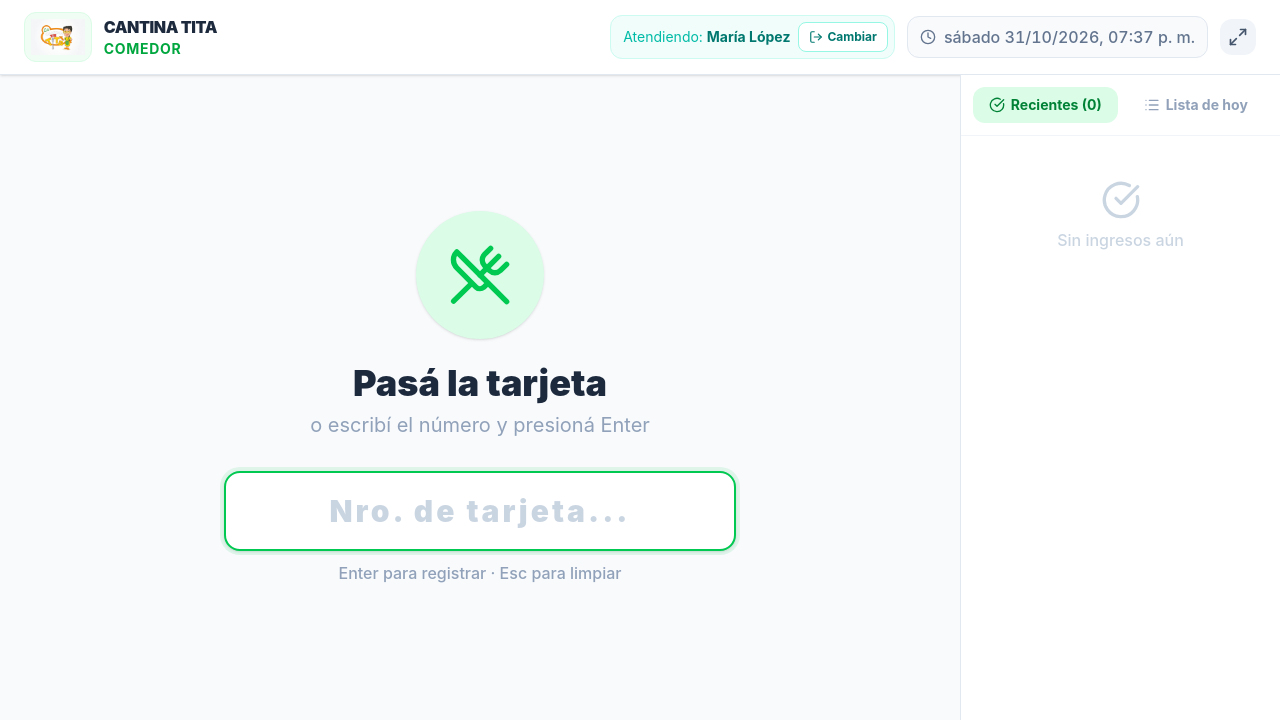
it: Comedor — flujo de escaneo › registra almuerzo exitoso → panel muestra "Ingreso registrado", nombre y grado
Type "T-001" into the field with placeholder "Nro. de tarjeta..." at (480, 510), box [224, 470, 736, 550]
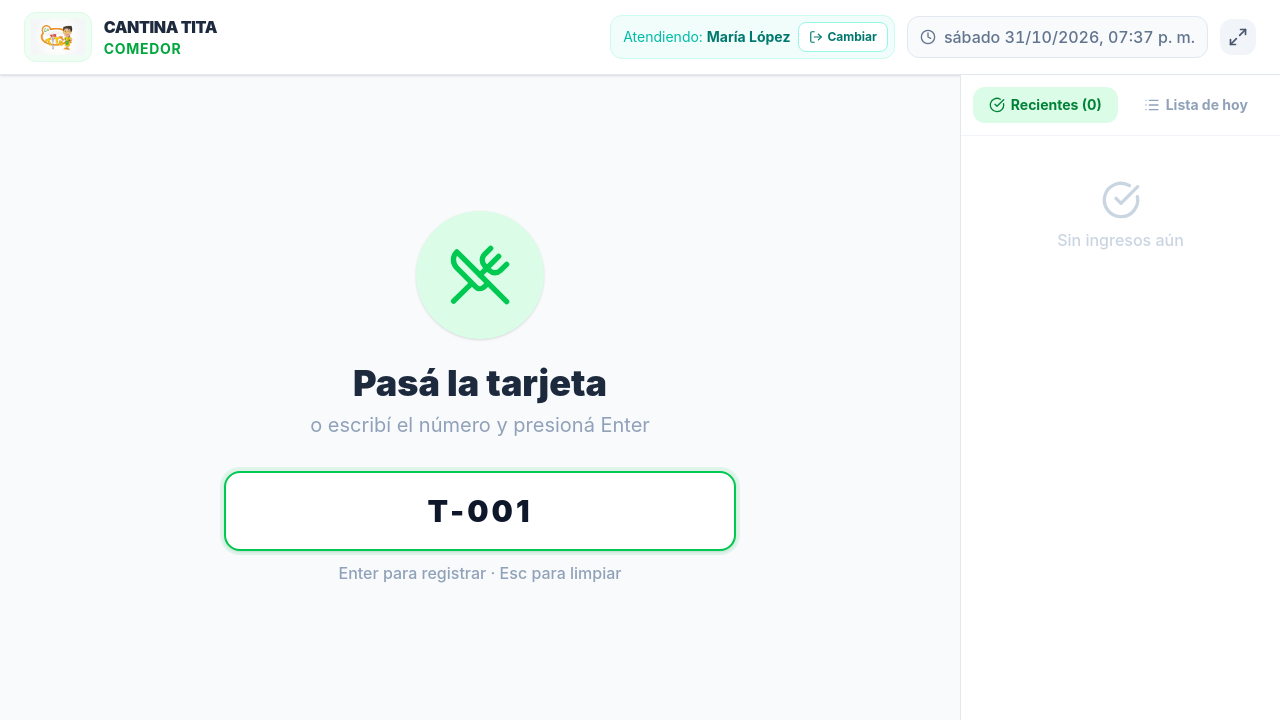
Press Enter
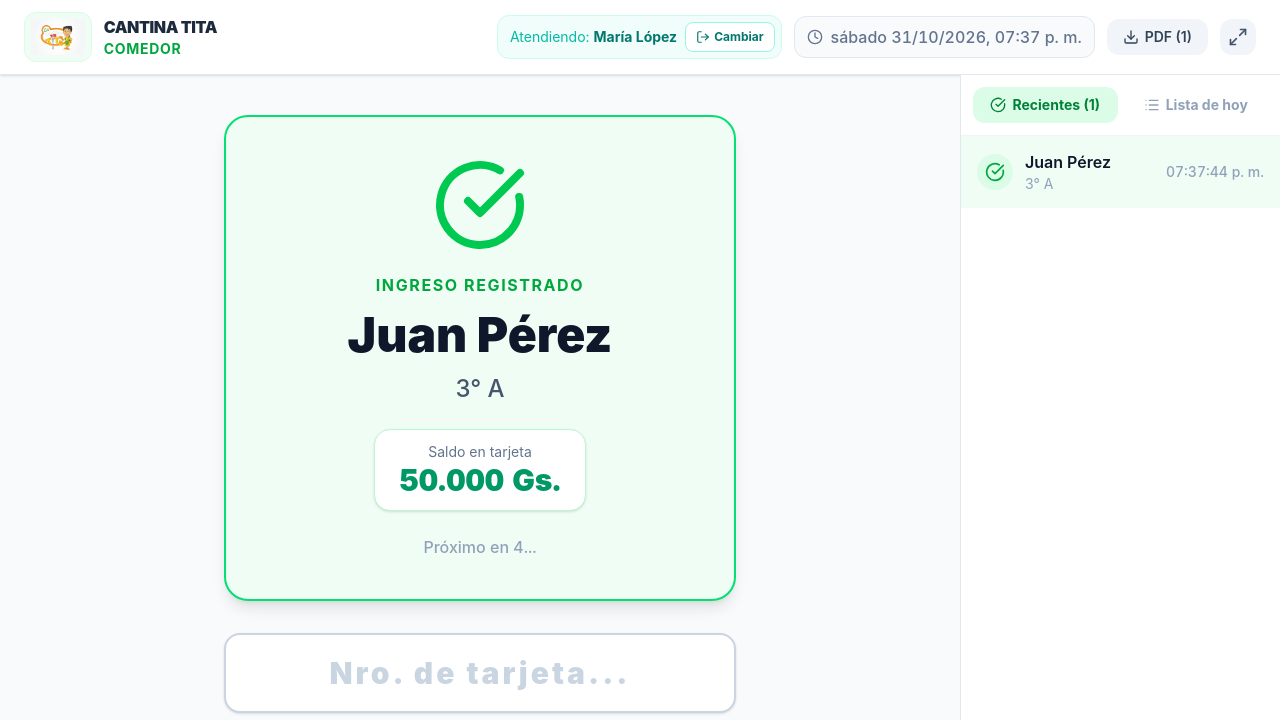
Expected: the text "Ingreso registrado" is shown, [376, 275, 584, 295]
Expected: the text "Juan Pérez" below "Ingreso registrado" is shown, [348, 305, 612, 364]
Expected: the text "3° A" below "Ingreso registrado" is shown, [455, 374, 504, 403]
